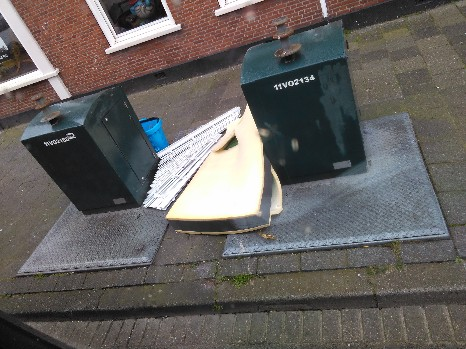Container: (249, 55, 386, 204), (56, 98, 150, 220)
Rest: (172, 124, 282, 255), (152, 115, 186, 155)
